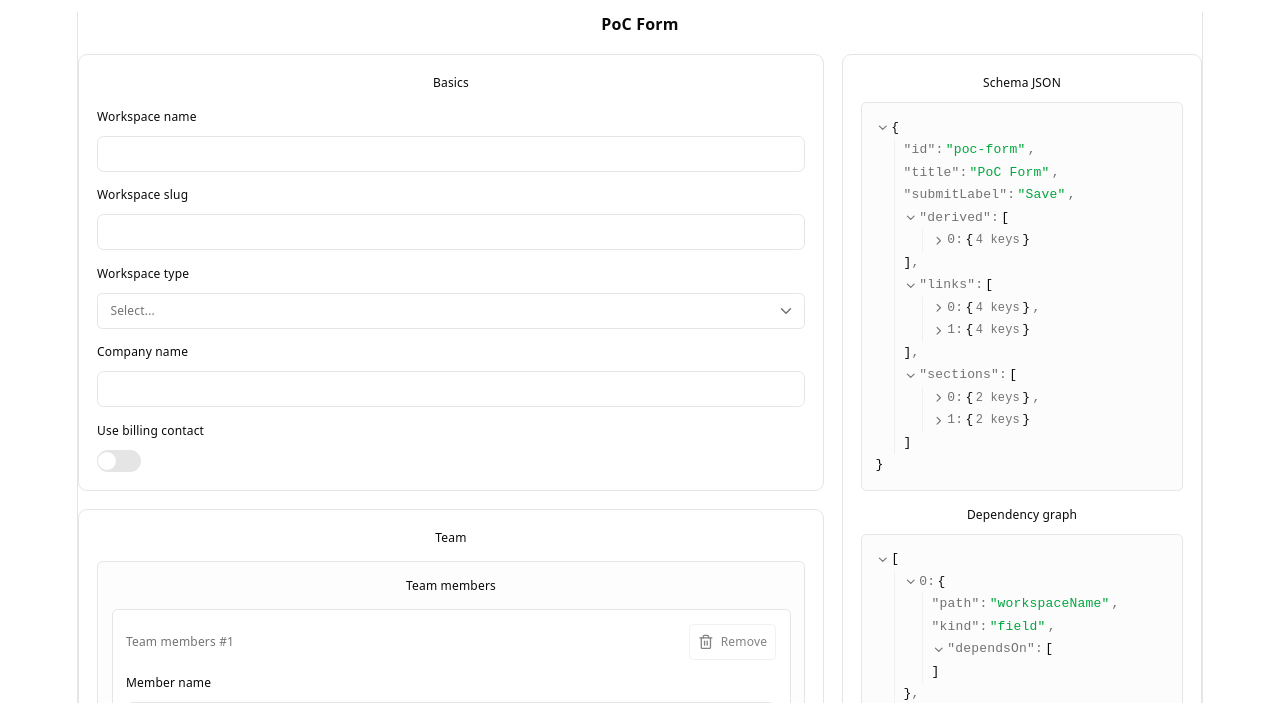
Test: SchemaForm › renders schema and live values in the inspector
Expected: the text "Schema JSON" is shown, top-left (983, 74), bottom-right (1061, 91)
Expected: the text "Dependency graph" is shown, top-left (967, 506), bottom-right (1077, 522)
Type "Acme" into the field labelled "Workspace name" at (451, 154), box top-left (97, 136), bottom-right (805, 172)
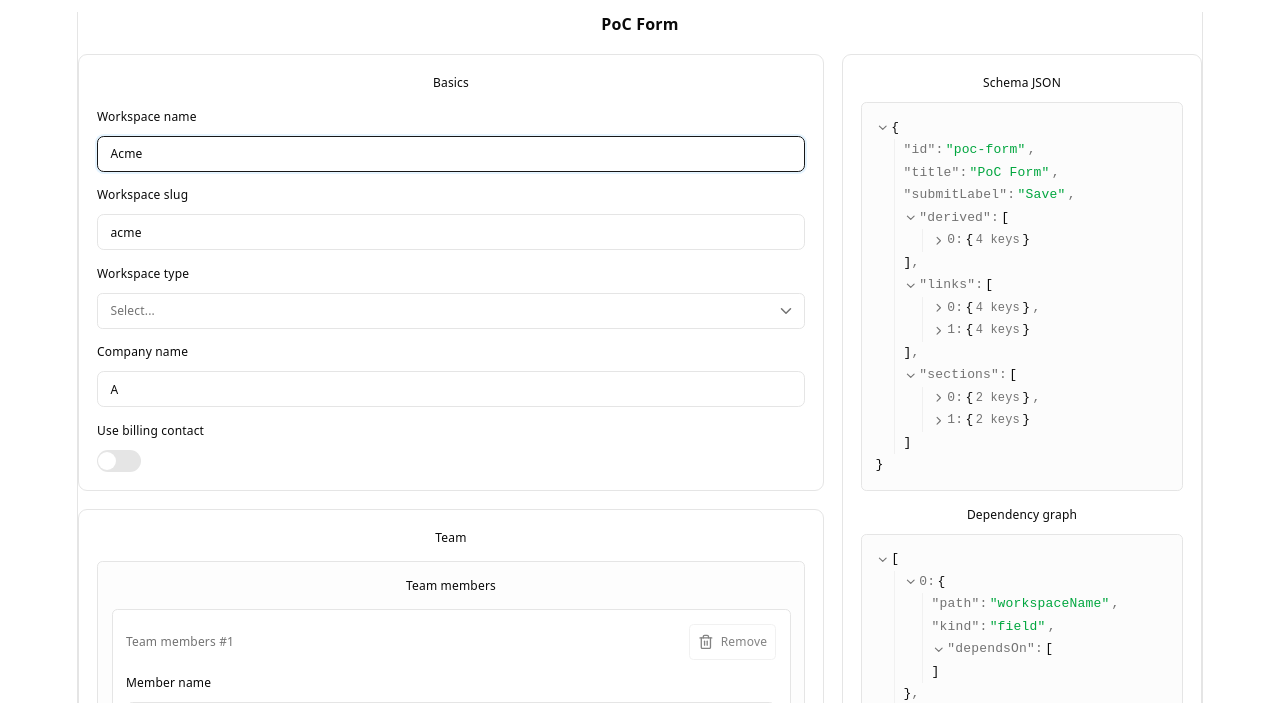
Expected: the text "\"workspaceName\"" is shown, top-left (990, 593), bottom-right (1109, 616)
Now the field showing "acme" is shown, box top-left (97, 214), bottom-right (805, 250)
